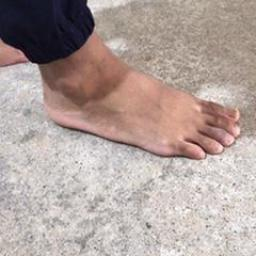Lateral View -Right Foot-: (27, 18, 244, 177)
